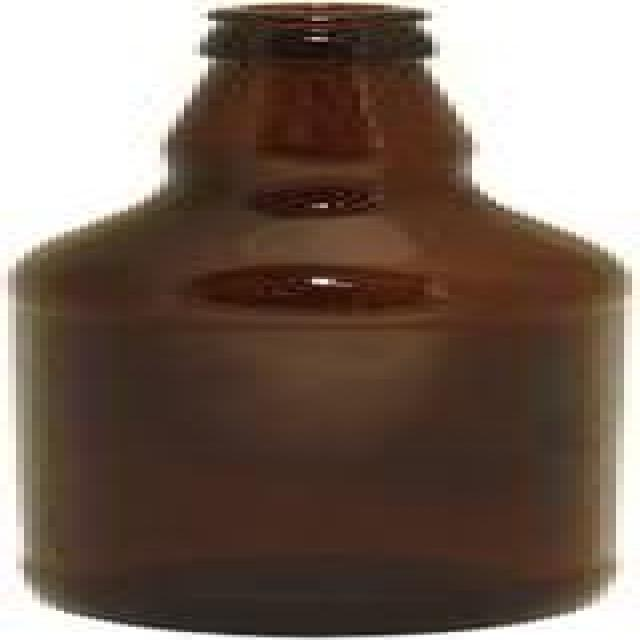Anorganik: (8, 2, 616, 634)
